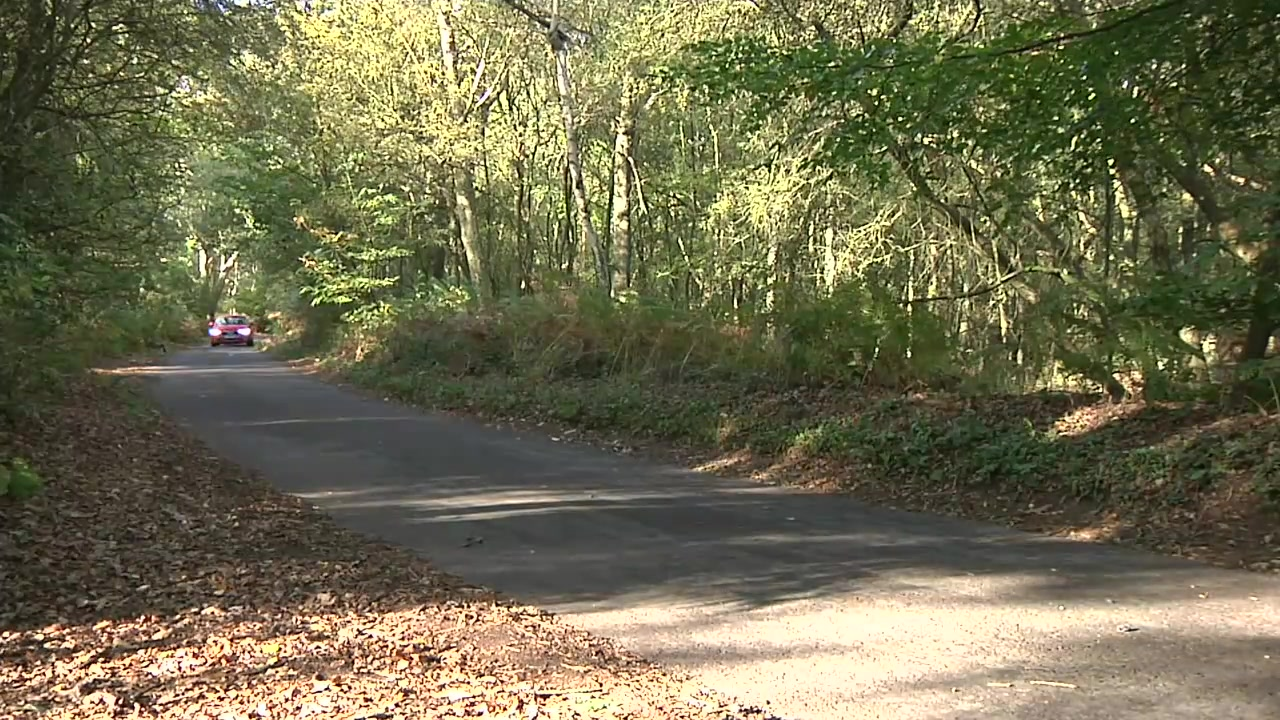car: (207, 313, 257, 348)
